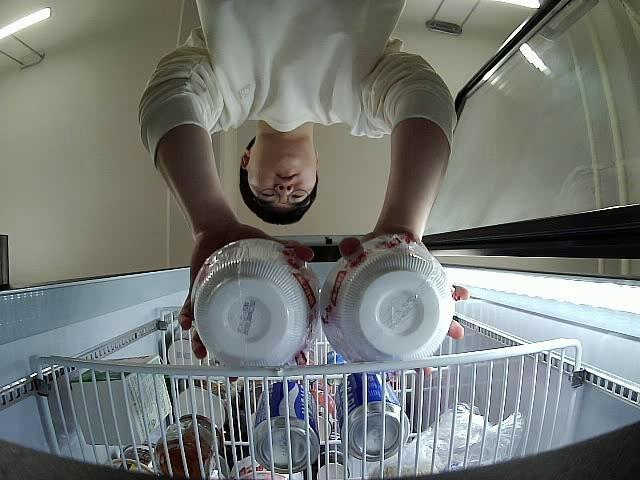09_yukGaeJang: (317, 232, 453, 366), (188, 240, 320, 372)
